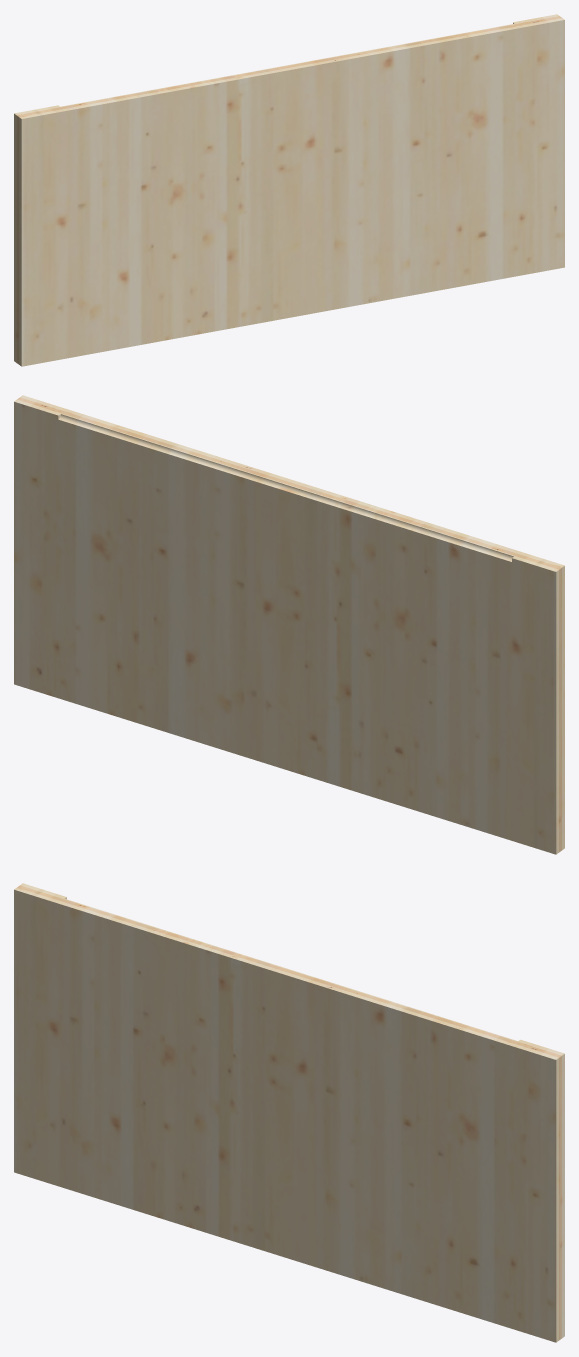
File: BUILDING_OPERABLE_SHADE.fbx
3 renders of one model, top to bottom at view 1: azimuth 30°, elevation 25°; view 2: azimuth 150°, elevation 25°; view 3: azimuth 330°, elevation 25°, orthographic. The views are drawn at different scales.
Parts seen in each view (by area): view 1: closed; view 2: closed; view 3: closed.
Part boxes in pixels (x1,y1,x2,y2): closed: (14, 14, 564, 366); closed: (14, 395, 564, 854); closed: (14, 883, 564, 1342).
Size of the model in its own units: 19 by 2.71 by 8.83.
2 materials, 2 textured.
